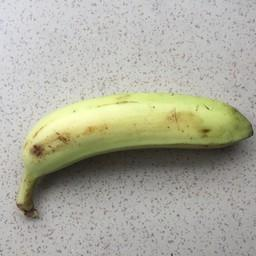Banana Ripe: (0, 89, 256, 196)
